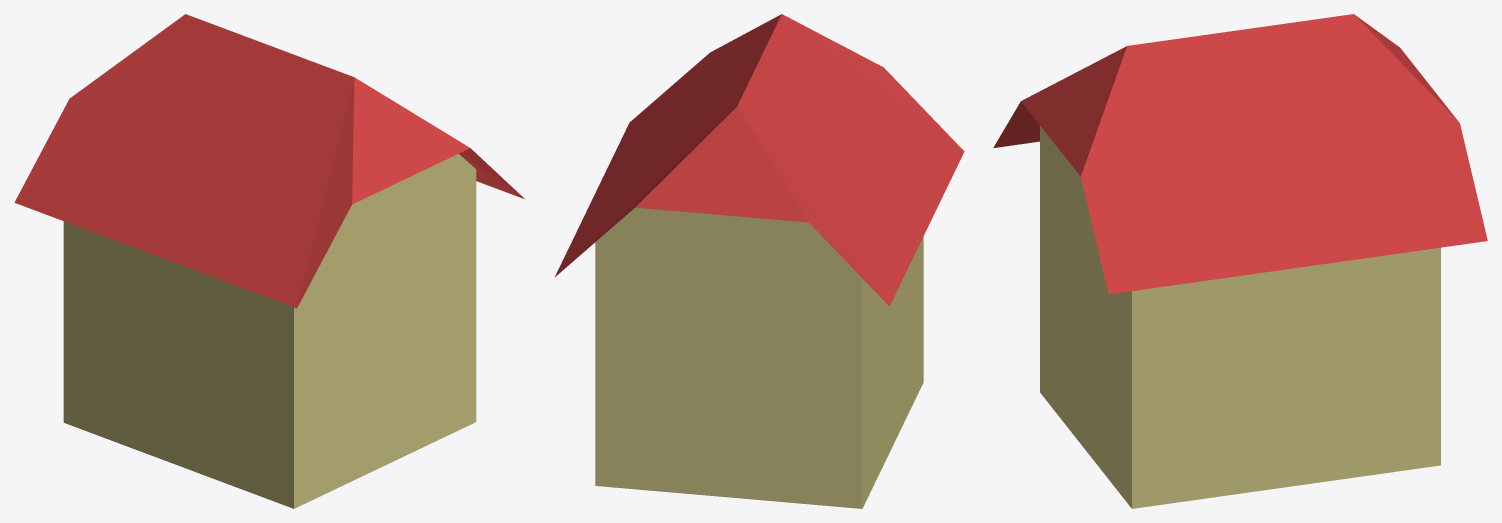
The picture shows the model from 3 angles, left to right: view 1: azimuth 30°, elevation 25°; view 2: azimuth 150°, elevation 25°; view 3: azimuth 270°, elevation 25°; orthographic projection. The views are drawn at different scales.
Parts seen in each view (by area): view 1: group_5, group_3, group_4; view 2: group_5, group_3, group_4; view 3: group_5, group_3, group_4.
Boxes of the visible parts, box(x1,y1,x2,y2) form: group_5: box(63, 154, 476, 508); group_3: box(14, 14, 523, 307); group_4: box(16, 60, 524, 308); group_5: box(595, 207, 923, 508); group_3: box(555, 14, 964, 306); group_4: box(555, 97, 964, 305); group_5: box(1040, 126, 1440, 508); group_3: box(994, 14, 1487, 293); group_4: box(993, 32, 1487, 294).
Size of the model in its own units: 12.75 by 13.35 by 11.87.
